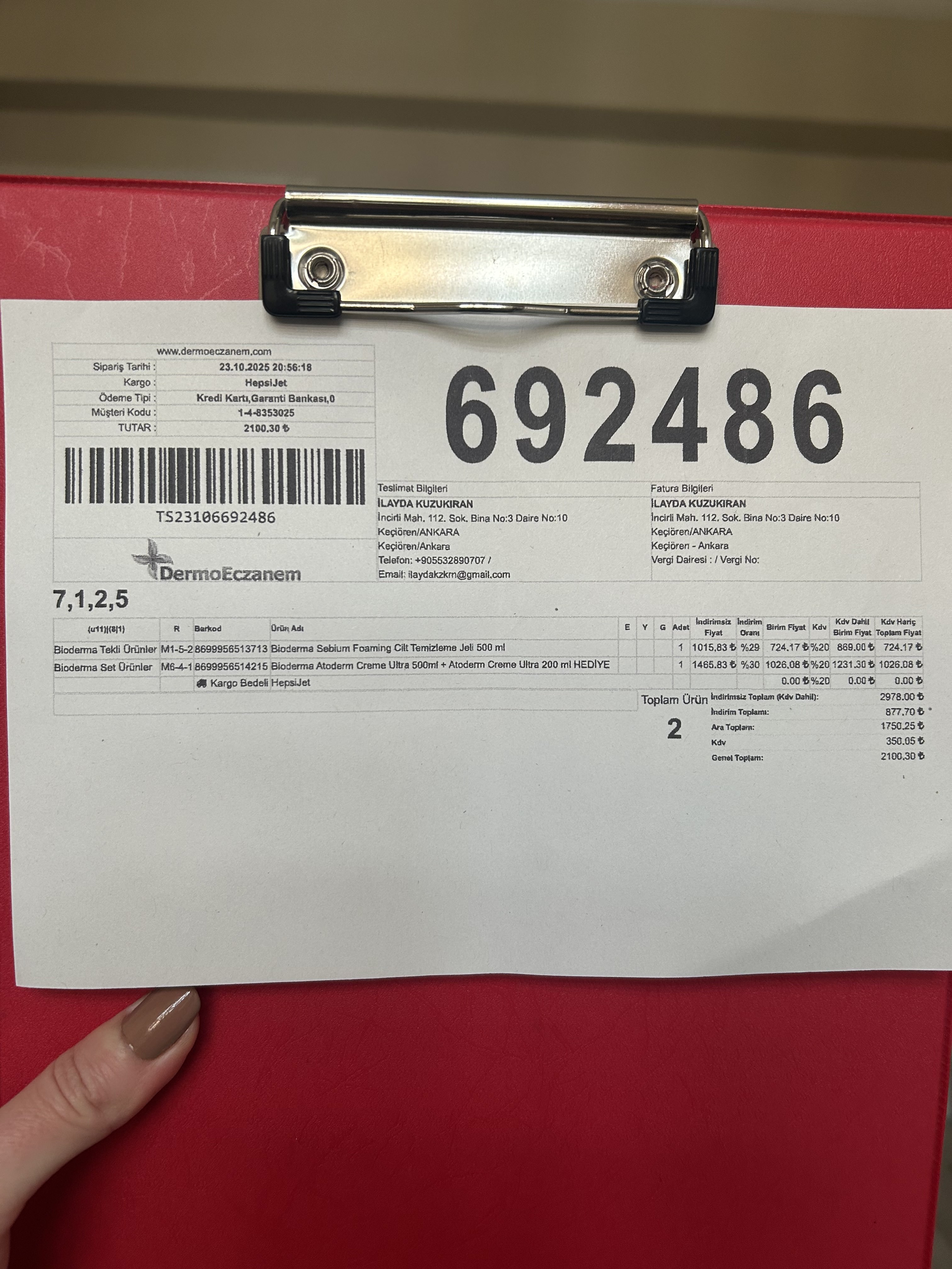date: (213, 360, 323, 376)
price: (875, 750, 931, 764)
